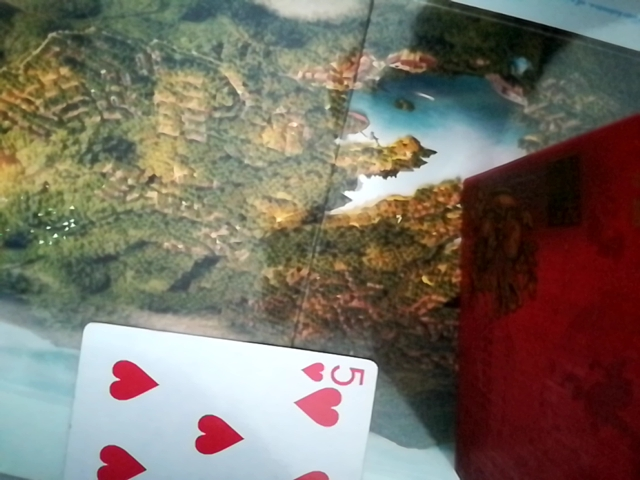hx 5: (65, 321, 379, 480)
